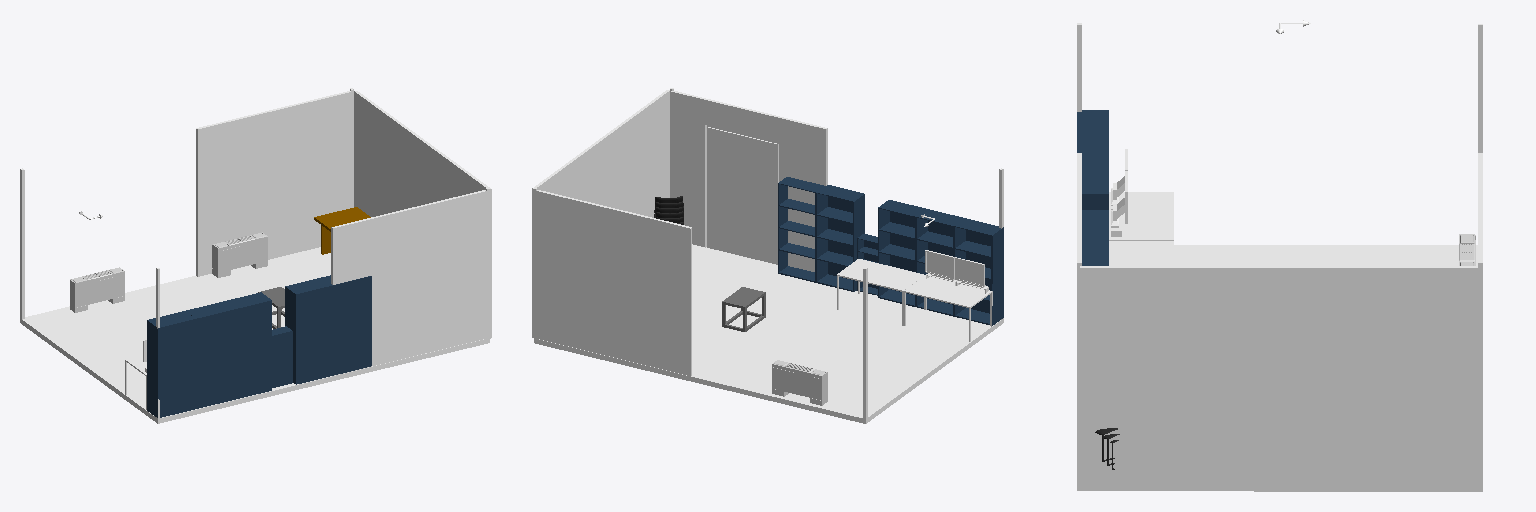
URDF robot description (plane):
<?xml version="1.0" ?>
<robot name="plane">
  <link name="planeLink">
  <contact>
      <lateral_friction value="1"/>
  </contact>
    <inertial>
      <origin rpy="0 0 0" xyz="0 0 0"/>
       <mass value=".0"/>
       <inertia ixx="0" ixy="0" ixz="0" iyy="0" iyz="0" izz="0"/>
    </inertial>
    <visual>
      <origin rpy="1.5707 0 0" xyz="0 0 0"/>
      <geometry>
	 	<mesh filename="environment.obj"/>
      </geometry>
       <material name="white">
        <color rgba="1 1 1 1"/>
      </material>
    </visual>
    <collision>
      <origin rpy="0 0 0" xyz="3 0 0"/>
      <geometry>
	 	<box size="30 30 0.01"/>
      </geometry>
    </collision>
  </link>
  <joint name="tablejoint" type="fixed">
	    <origin rpy="0 0 0" xyz="4.0 0 0"/>
	    <axis xyz="0 0 1"/>
	    <parent link="planeLink"/>
	    <child link="table"/>
  </joint>
  <link name="table">
  <contact>
      <lateral_friction value="1"/>
  </contact>
    <inertial>
      <origin rpy="0 0 0" xyz="0 0 0"/>
       <mass value=".0"/>
       <inertia ixx="0" ixy="0" ixz="0" iyy="0" iyz="0" izz="0"/>
    </inertial>
    <visual>
      <origin rpy="1.5707 0 0" xyz="0 0 0"/>
      <geometry>
	 	<mesh filename="environment_table.obj"/>
      </geometry>
       <material name="gray">
        <color rgba="0.5 0.5 0.5 1"/>
      </material>
    </visual>
    <collision>
      <origin rpy="0 0 0" xyz="0 0 0"/>
      <geometry>
	 	<box size="0.48 0.74 0.51"/>
      </geometry>
    </collision>
  </link>
  
  
    <joint name="table_back_joint" type="fixed">
	    <origin rpy="0 0 0" xyz="6.5 0.5 0"/>
	    <axis xyz="0 0 1"/>
	    <parent link="planeLink"/>
	    <child link="table_back"/>
  </joint>
  
    <link name="table_back">
  <contact>
      <lateral_friction value="1"/>
  </contact>
    <inertial>
      <origin rpy="0 0 0" xyz="0 0 0"/>
       <mass value=".0"/>
       <inertia ixx="0" ixy="0" ixz="0" iyy="0" iyz="0" izz="0"/>
    </inertial>
    <visual>
      <origin rpy="1.5707 0 0" xyz="0 0 0"/>
      <geometry>
	 	<mesh filename="environment_table_back.obj"/>
      </geometry>
       <material name="brown">
        <color rgba="0.6 0.4 0.0 1"/>
      </material>
    </visual>
    <collision>
      <origin rpy="0 0 0" xyz="0 0 0"/>
      <geometry>
	 	<box size="0.9 3.61 0.71"/>
      </geometry>
    </collision>
  </link>
  
  
      <joint name="airconditioner_joint1" type="fixed">
	    <origin rpy="0 0 1.5707" xyz="4.5 2.3 0"/>
	    <axis xyz="0 0 1"/>
	    <parent link="planeLink"/>
	    <child link="airconditioner1"/>
  </joint>
  
    <link name="airconditioner1">
  <contact>
      <lateral_friction value="1"/>
  </contact>
    <inertial>
      <origin rpy="0 0 0" xyz="0 0 0"/>
       <mass value=".0"/>
       <inertia ixx="0" ixy="0" ixz="0" iyy="0" iyz="0" izz="0"/>
    </inertial>
    <visual>
      <origin rpy="1.5707 0 0" xyz="0 0 0"/>
      <geometry>
	 	<mesh filename="environment_ariconditioner.obj"/>
      </geometry>
       <material name="darkwhite">
        <color rgba="0.9 0.9 0.9 1"/>
      </material>
    </visual>
    <collision>
      <origin rpy="0 0 0" xyz="0 0 0"/>
      <geometry>
	 	<box size="0.0 0.0 0.0 "/>
      </geometry>
    </collision>
  </link>
 <joint name="airconditioner_joint2" type="fixed">
	    <origin rpy="0 0 1.5707" xyz="1.5 2.3 0"/>
	    <axis xyz="0 0 1"/>
	    <parent link="planeLink"/>
	    <child link="airconditioner2"/>
  </joint>
<link name="airconditioner2">
  <contact>
      <lateral_friction value="1"/>
  </contact>
    <inertial>
      <origin rpy="0 0 0" xyz="0 0 0"/>
       <mass value=".0"/>
       <inertia ixx="0" ixy="0" ixz="0" iyy="0" iyz="0" izz="0"/>
    </inertial>
    <visual>
      <origin rpy="1.5707 0 0" xyz="0 0 0"/>
      <geometry>
	 	<mesh filename="environment_ariconditioner.obj"/>
      </geometry>
       <material name="darkwhite">
        <color rgba="0.9 0.9 0.9 1"/>
      </material>
    </visual>
    <collision>
      <origin rpy="0 0 0" xyz="0 0 0"/>
      <geometry>
	 	<box size="0.0 0.0 0.0 "/>
      </geometry>
    </collision>
  </link>
 <joint name="shelf_joint" type="fixed">
	    <origin rpy="0 0 1.5707" xyz="0.4 -2.3 0.01"/>
	    <axis xyz="0 0 1"/>
	    <parent link="planeLink"/>
	    <child link="shelf"/>
  </joint>
<link name="shelf">
  <contact>
      <lateral_friction value="1"/>
  </contact>
    <inertial>
      <origin rpy="0 0 0" xyz="0 0 0"/>
       <mass value=".0"/>
       <inertia ixx="0" ixy="0" ixz="0" iyy="0" iyz="0" izz="0"/>
    </inertial>
    <visual>
      <origin rpy="1.5707 0 0" xyz="0 0 0"/>
      <geometry>
	 	<mesh filename="environment_shelf.obj"/>
      </geometry>
       <material name="shelf">
        <color rgba="0.2 0.3 0.4 1"/>
      </material>
    </visual>
    <collision>
      <origin rpy="0 0 0" xyz="0 0 0"/>
      <geometry>
	 	<box size="0.0 0.0 0.0 "/>
      </geometry>
    </collision>
  </link>
  
  <joint name="computertable_joint" type="fixed">
	    <origin rpy="0 0 1.5707" xyz="0.7 -1.7 0.01"/>
	    <axis xyz="0 0 1"/>
	    <parent link="planeLink"/>
	    <child link="computertable"/>
  </joint>
<link name="computertable">
  <contact>
      <lateral_friction value="1"/>
  </contact>
    <inertial>
      <origin rpy="0 0 0" xyz="0 0 0"/>
       <mass value=".0"/>
       <inertia ixx="0" ixy="0" ixz="0" iyy="0" iyz="0" izz="0"/>
    </inertial>
    <visual>
      <origin rpy="1.5707 0 0" xyz="0 0 0"/>
      <geometry>
	 	<mesh filename="environment_computertable.obj"/>
      </geometry>
       <material name="white">
        <color rgba="1 1 1 1"/>
      </material>
    </visual>
    <collision>
      <origin rpy="0 0 0" xyz="0 0 0"/>
      <geometry>
	 	<box size="0.0 0.0 0.0 "/>
      </geometry>
    </collision>
  </link> 
  
  
    <joint name="chair_joint" type="fixed">
	    <origin rpy="0 0 -1.007" xyz="6.6 -1.8 0.01"/>
	    <axis xyz="0 0 1"/>
	    <parent link="planeLink"/>
	    <child link="chair"/>
  </joint>
<link name="chair">
  <contact>
      <lateral_friction value="1"/>
  </contact>
    <inertial>
      <origin rpy="0 0 0" xyz="0 0 0"/>
       <mass value=".0"/>
       <inertia ixx="0" ixy="0" ixz="0" iyy="0" iyz="0" izz="0"/>
    </inertial>
    <visual>
      <origin rpy="1.5707 0 0" xyz="0 0 0"/>
      <geometry>
	 	<mesh filename="environment_chair.obj"/>
      </geometry>
       <material name="chair">
        <color rgba="0.2 0.2 0.2 1"/>
      </material>
    </visual>
    <collision>
      <origin rpy="0 0 0" xyz="0 0 0"/>
      <geometry>
	 	<box size="0.0 0.0 0.0 "/>
      </geometry>
    </collision>
  </link> 
</robot>

--- What the picture shows (computed from the rendered views, not written in the file) ---
3 views of the same robot in one strip: view 1: azimuth 30°, elevation 25°; view 2: azimuth 150°, elevation 25°; view 3: azimuth 270°, elevation 25° (orthographic).
Model plane with 8 links and 7 joints (7 fixed), rooted at planeLink, posed every joint at zero.
Links seen in each view (by area): view 1: planeLink, shelf, airconditioner1, airconditioner2, table_back; view 2: planeLink, shelf, computertable, airconditioner2, table, chair; view 3: planeLink, computertable, shelf, airconditioner2.
Boxes of the visible links, x1,y1,x2,y2 form: planeLink: (20,88,491,423); shelf: (147,275,371,417); airconditioner1: (212,232,267,277); airconditioner2: (70,267,124,312); table_back: (314,207,370,254); planeLink: (532,88,1003,423); shelf: (778,177,1003,325); computertable: (837,250,992,341); airconditioner2: (772,360,827,405); table: (722,287,765,331); chair: (654,196,683,224); planeLink: (1077,20,1482,491); computertable: (1109,149,1173,265); shelf: (1077,110,1108,265); airconditioner2: (1459,234,1475,265).
Bounding box of the posed robot: 7.18 × 5 × 3.14 m (x, y, z).
8 mesh visuals loaded from 7 distinct referenced files (7 OBJ).
